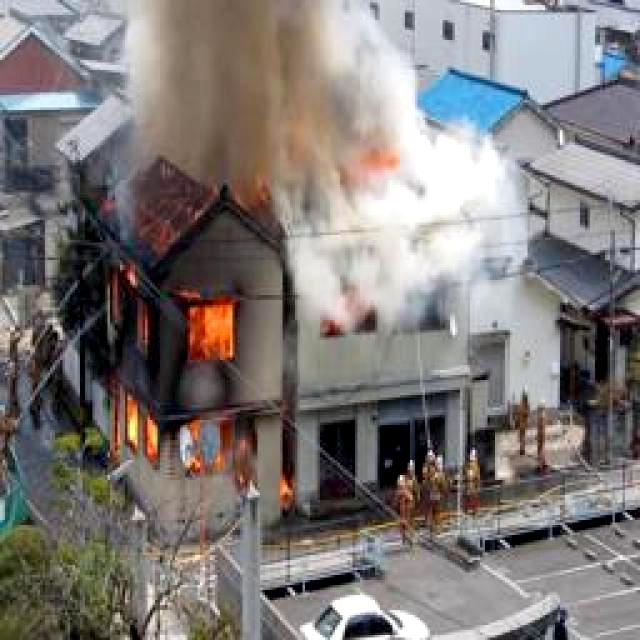fire: (92, 248, 318, 512)
